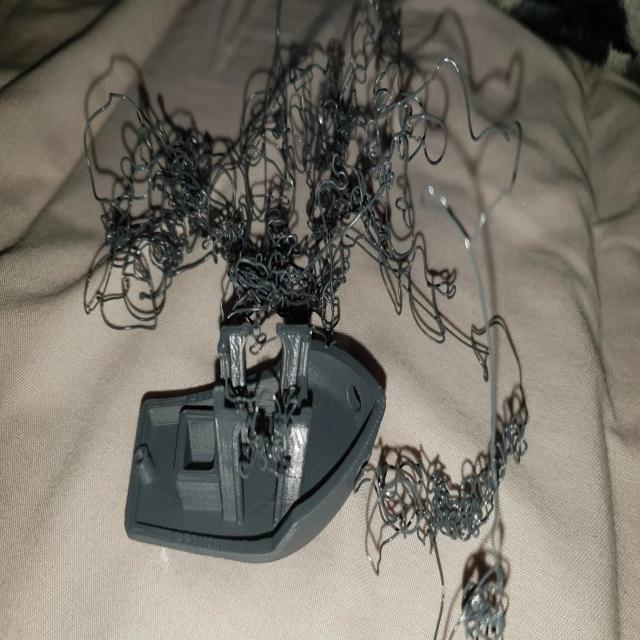spaghetti: (78, 11, 536, 322), (378, 333, 598, 640)
